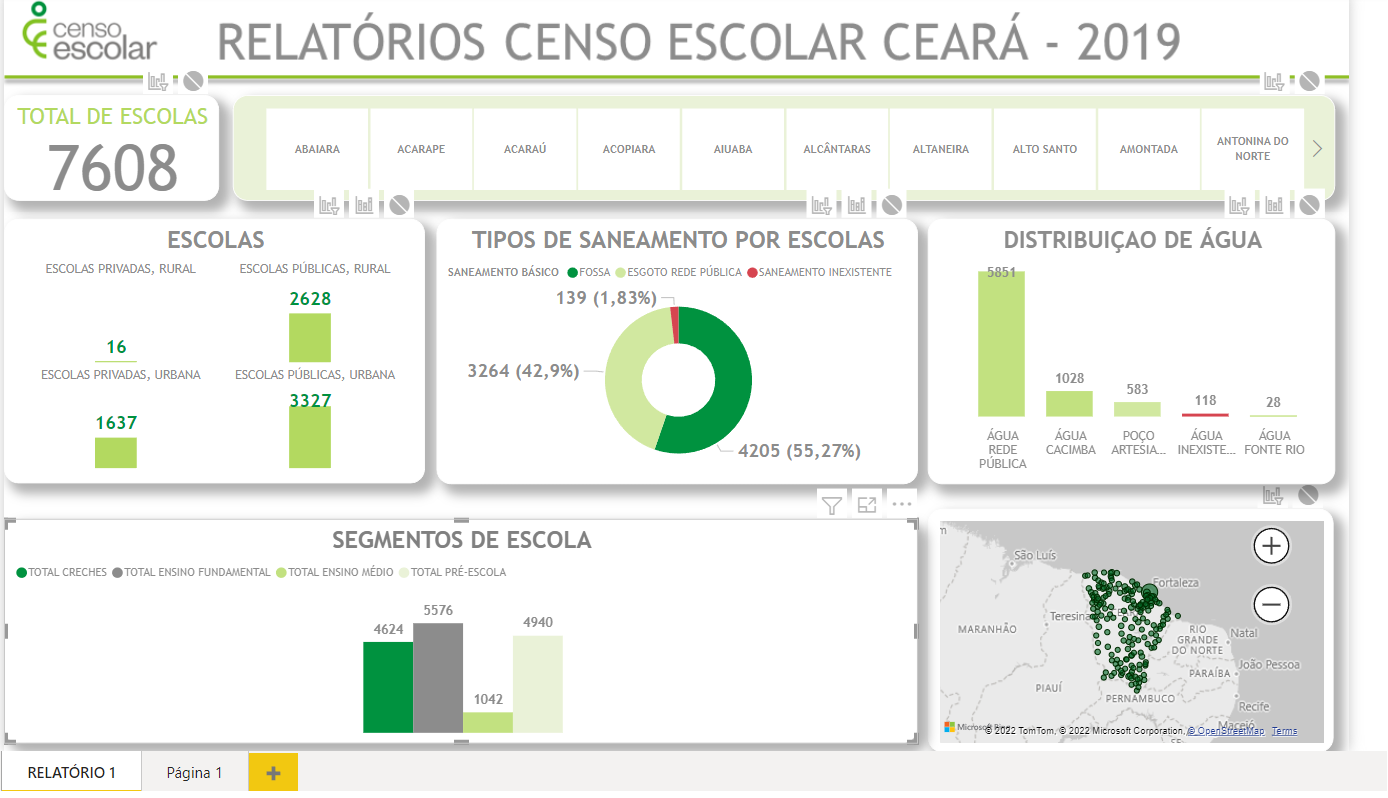

Layout of this report page (visuals, bound fields, positions):
{"tool":"powerbi","page":{"name":"SERVIÇOS FUNDAMENTAIS","canvas":[1280,720],"ordinal":0},"visuals":[{"type":"card","title":"TOTAL DE ESCOLAS","fields":{"Values":["DTB_MUNICIPIOS_IBGE.TOTAL DE ESCOLAS"]},"box":[9.8,94.2,285.1,102.8],"z":0},{"type":"slicer","fields":{"Values":["DTB_MUNICIPIOS_IBGE.Nome_Município"]},"box":[642.6,94,624.8,103.5],"z":1000},{"type":"donutChart","title":"TIPOS DE SANEAMENTO ","fields":{"Category":["ESCOLAS_CE.IN_ESGOTO"],"Y":["CountNonNull(ESCOLAS_CE.SANEAMENTO BÁSICO)"]},"box":[11.9,483.2,610.5,220.2],"z":2000},{"type":"card","fields":{"Values":["DTB_MUNICIPIOS_IBGE.TOTAL PERCENTUAL"]},"box":[316.6,94,304.7,104.7],"z":3000},{"type":"columnChart","title":"DISTRIBUIÇAO DE ÁGUA","fields":{"Category":["ESCOLAS_CE.IN_AGUA"],"Y":["CountNonNull(ESCOLAS_CE.IN_AGUA)"]},"box":[642.6,484.4,624.8,220.2],"z":4000},{"type":"lineClusteredColumnComboChart","title":"SEGMENTOS DE ENSINO","fields":{"Y":["ESCOLAS_CE.TOTAL ENSINO FUNDAMENTAL","ESCOLAS_CE.TOTAL PRÉ-ESCOLA","ESCOLAS_CE.TOTAL CRECHES","ESCOLAS_CE.TOTAL ENSINO MÉDIO"]},"box":[642.6,215.4,624.8,248.7],"z":5000},{"type":"lineClusteredColumnComboChart","title":"RURAL ","fields":{"Y":["DTB_MUNICIPIOS_IBGE.TOTAL ESCOLAS RURAL"],"Category":["ESCOLAS_CE.TIPO DE ENSINO"]},"box":[317.8,215.4,304.7,248.7],"z":7000},{"type":"lineClusteredColumnComboChart","title":"URBANA","fields":{"Y":["AS MEDIDAS.TOTAL ESCOLAS URBANA"],"Category":["ESCOLAS_CE.TIPO DE ENSINO"]},"box":[9.5,215.4,284.4,248.7],"z":8000}]}

Visuals, with their boxes on the page's 1280x720 design canvas (x1, y1, x2, y2). These are canvas units, not pixel positions in the 1388x798 screenshot, which may show the page scaled, cropped or inside an application window:
"TOTAL DE ESCOLAS" card: <box>10,94,295,197</box>
slicer - DTB_MUNICIPIOS_IBGE.Nome_Município: <box>643,94,1267,198</box>
"TIPOS DE SANEAMENTO " donutChart: <box>12,483,622,703</box>
card - DTB_MUNICIPIOS_IBGE.TOTAL PERCENTUAL: <box>317,94,621,199</box>
"DISTRIBUIÇAO DE ÁGUA" columnChart: <box>643,484,1267,705</box>
"SEGMENTOS DE ENSINO" lineClusteredColumnComboChart: <box>643,215,1267,464</box>
"RURAL " lineClusteredColumnComboChart: <box>318,215,622,464</box>
"URBANA" lineClusteredColumnComboChart: <box>10,215,294,464</box>
